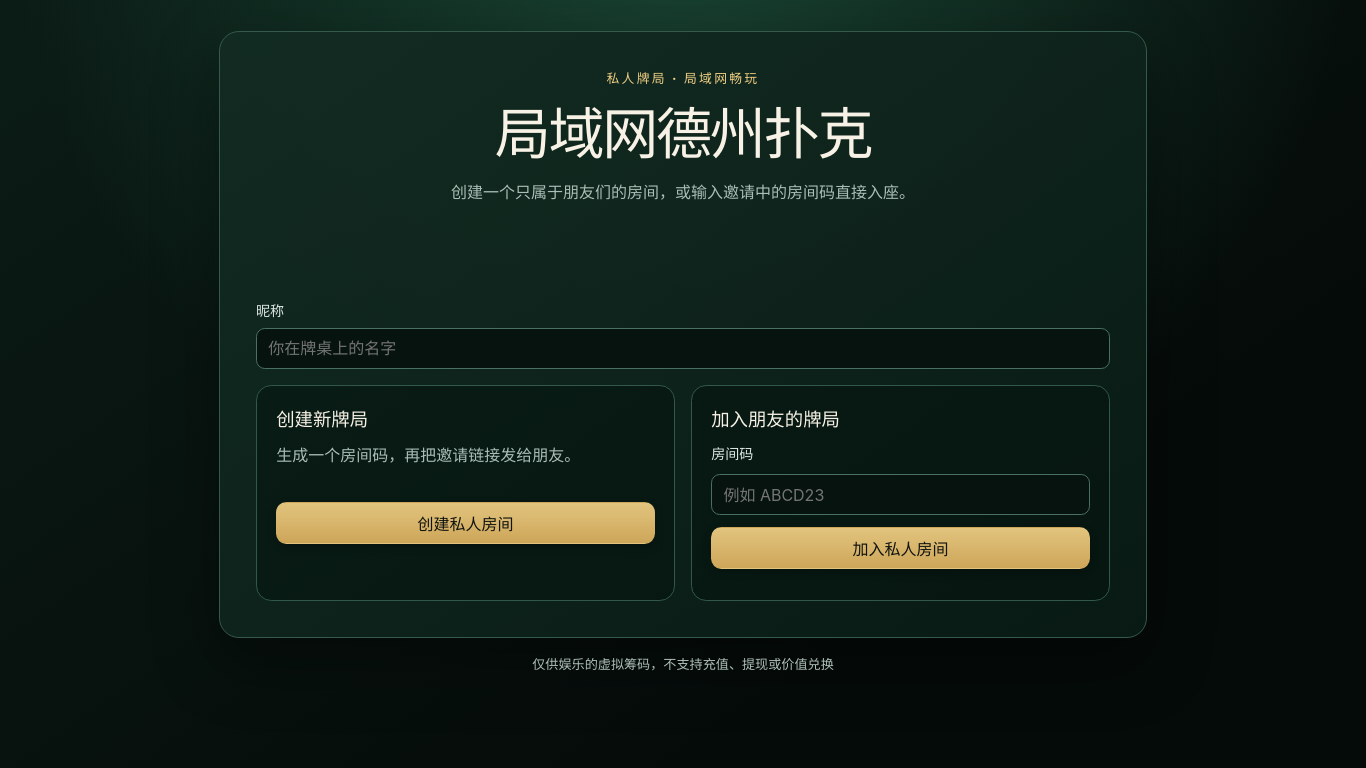
confirmed room exit navigation › closes the confirmation with Escape outside a pending request
The image size is (1366, 768).
Type "房主" into the field labelled "昵称" at (683, 348), box [256,328,1110,369]
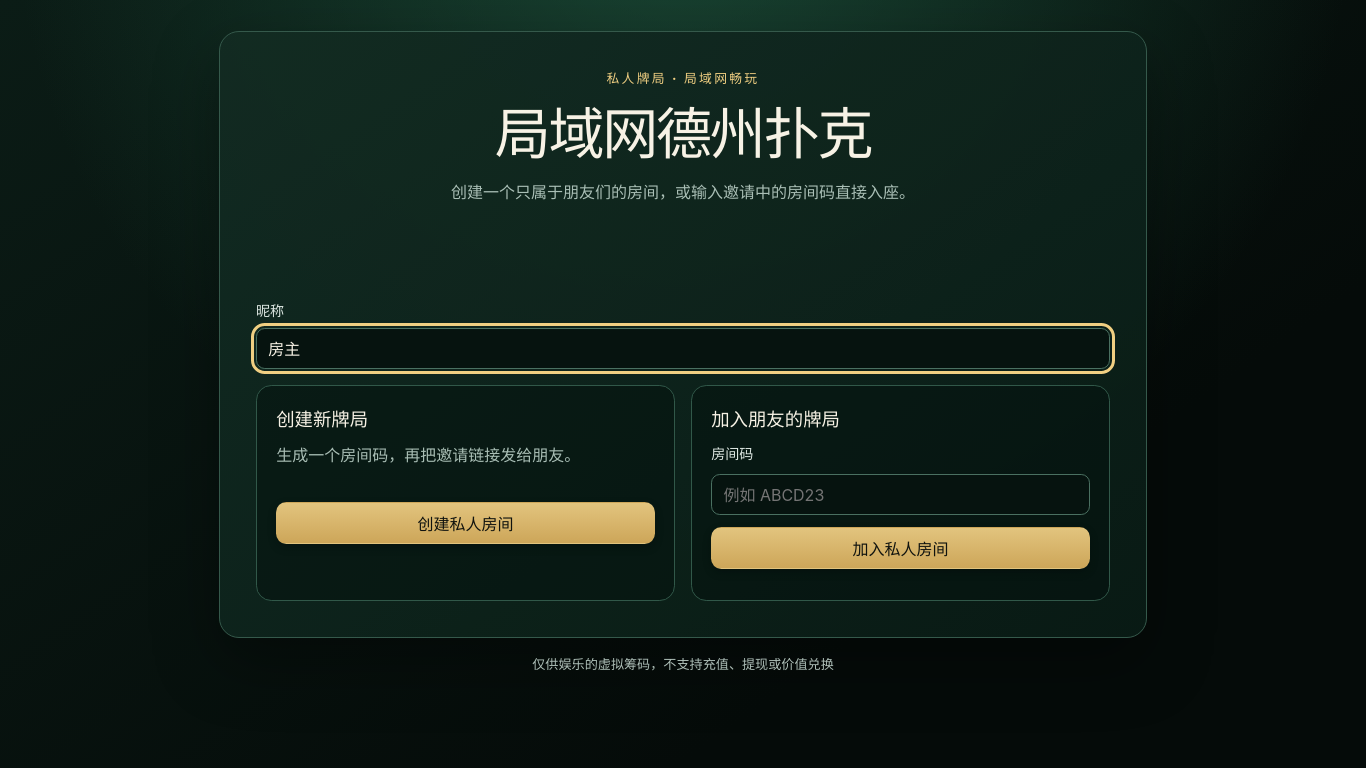
Click the button "创建私人房间" at (466, 523), box [276,502,655,544]
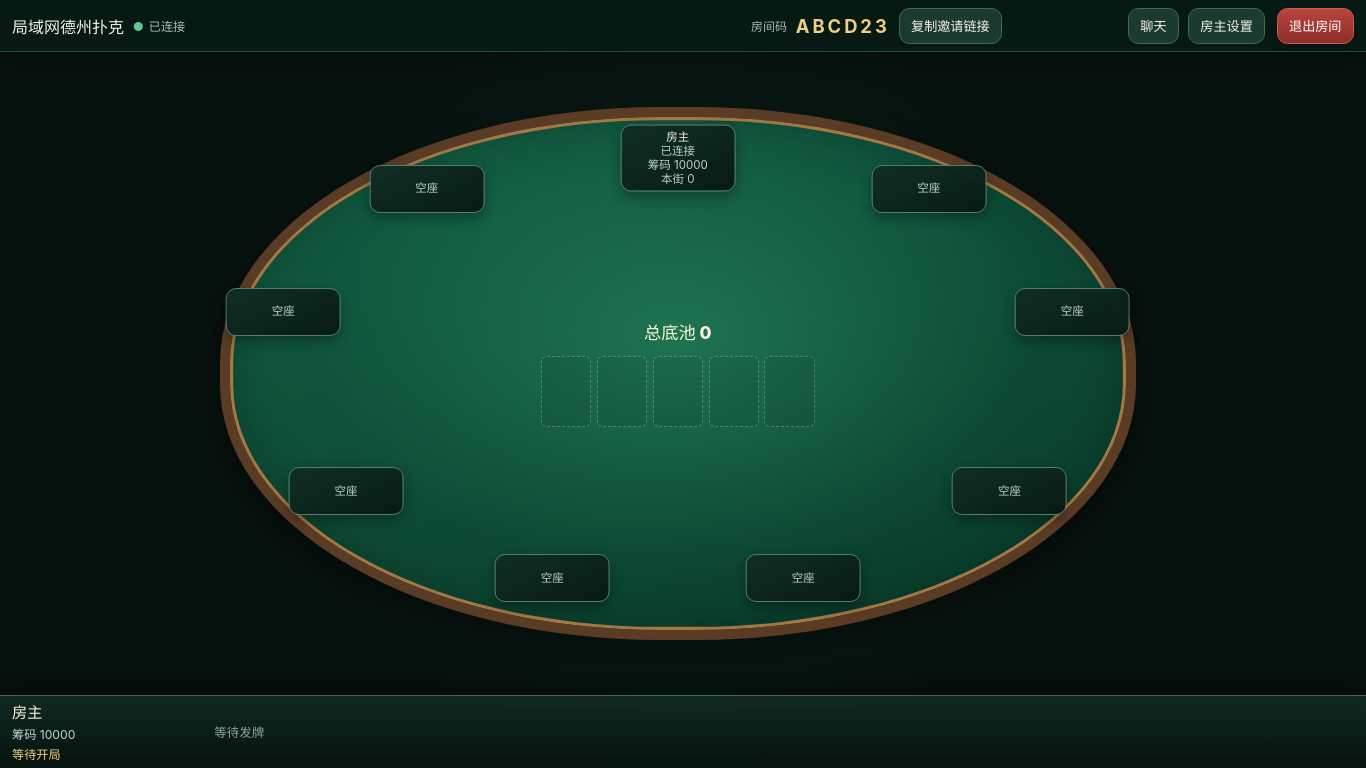
Result: the text "ABCD23" is shown at [796,14,890,36]
Result: the button "退出房间" is shown
Click the button "退出房间" at (1315, 26), box [1276,8,1354,44]
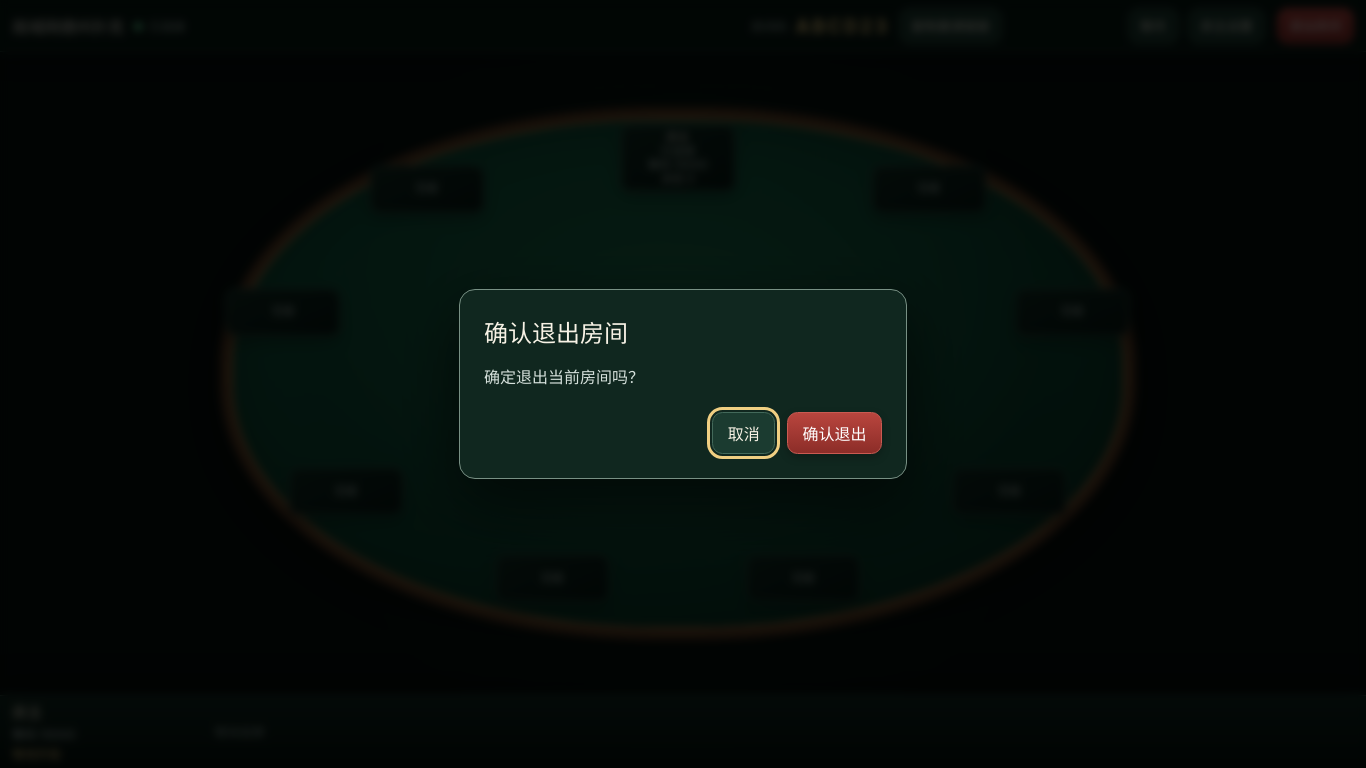
Result: the text "确定退出当前房间吗？" is shown at [484,366,644,386]
Press Escape
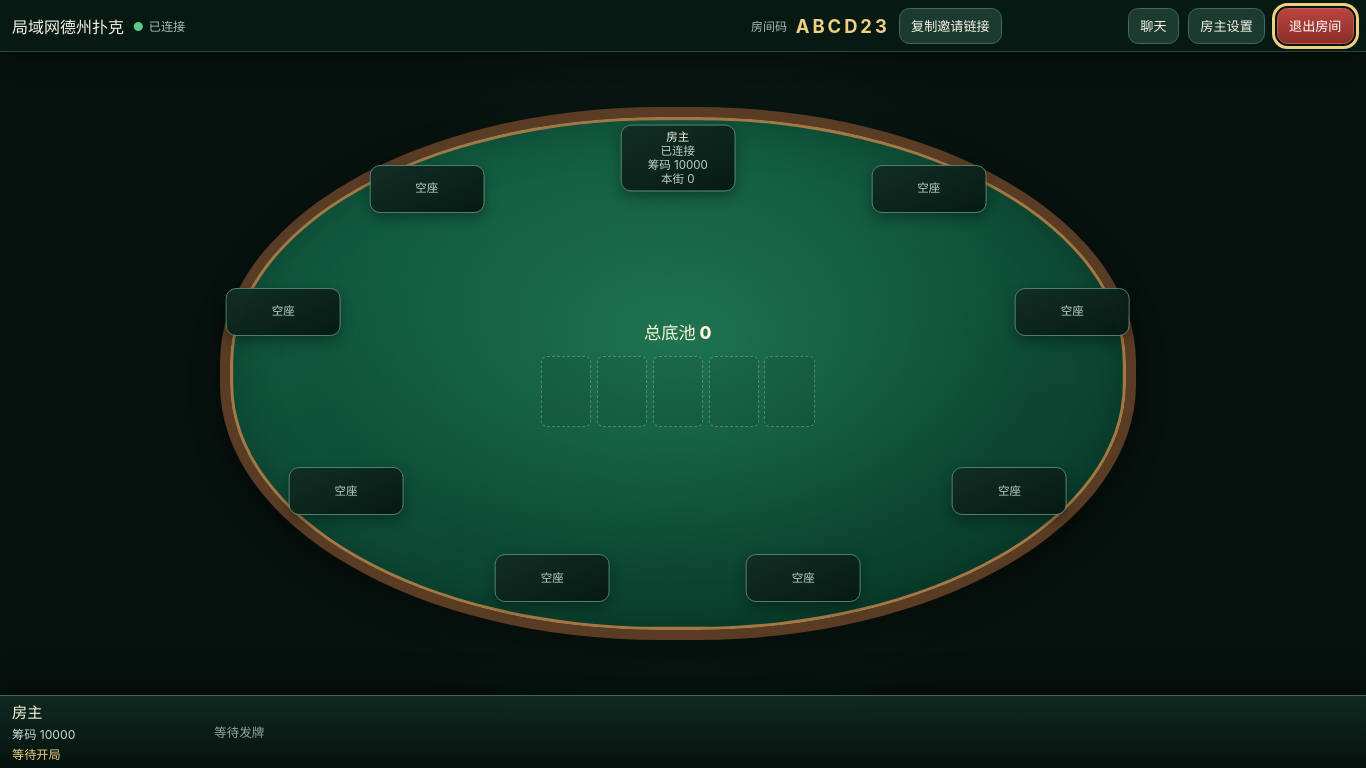
Result: the dialog is gone
